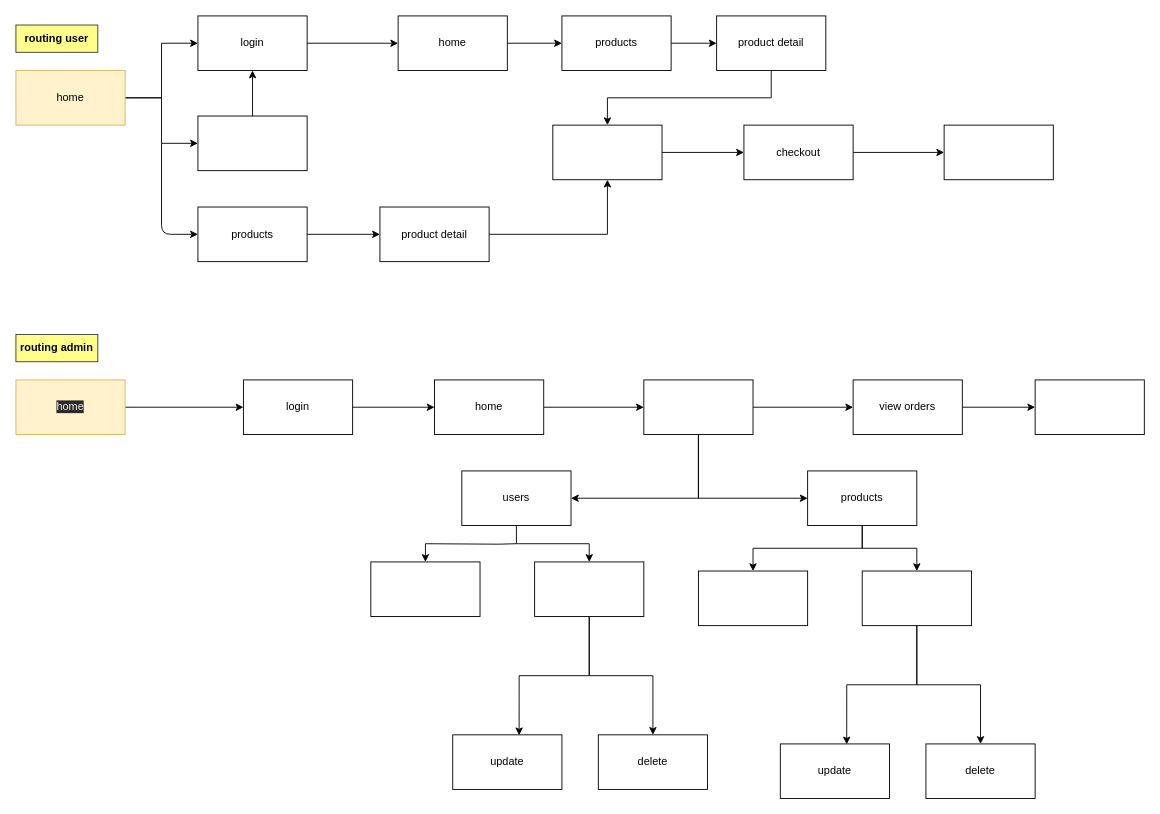
The diagram is 1160 pixels wide and 814 high, and some of its shapes have lost their labels. The centre of each missing label's shape, as x and y in pixels:
add products: (753,598)
add users: (425,589)
Admin dashboard: (698,407)
edit orders: (1089,407)
payment: (998,152)
register: (252,143)
shopping cart: (607,152)
view all products: (916,598)
view all users: (589,589)
